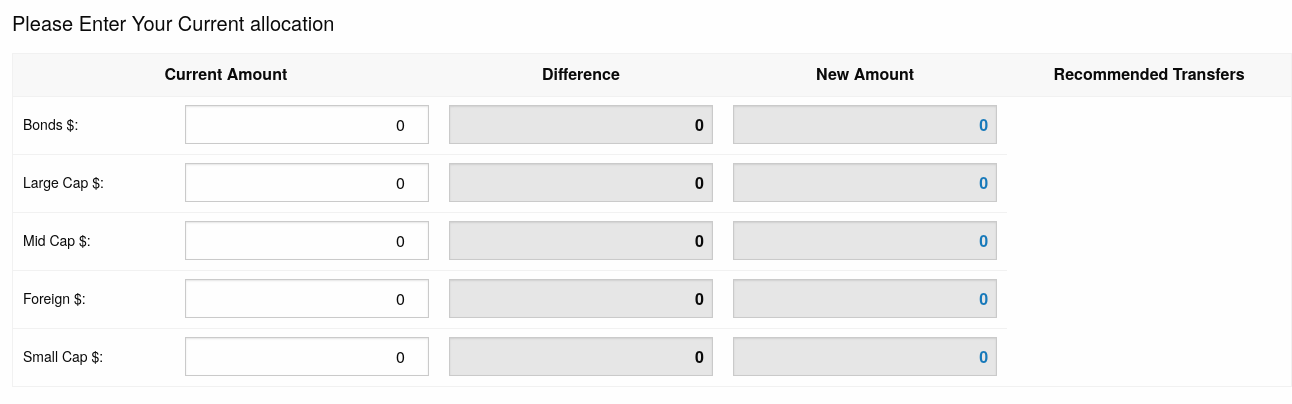
Test: <Calculator /> › when an input value change › shows new value and shows something on transfers
Replace the text in the number field named "current" with "100" at (307, 124), box x1=185 y1=105 x2=429 y2=144
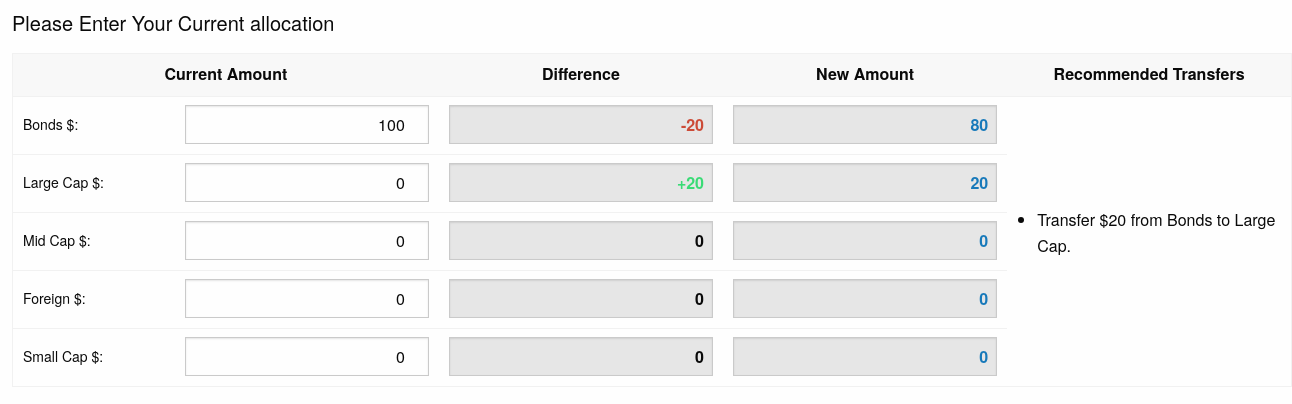
Check: the cell with class "calculator__transfers" is not empty, box x1=1007 y1=96 x2=1291 y2=386
